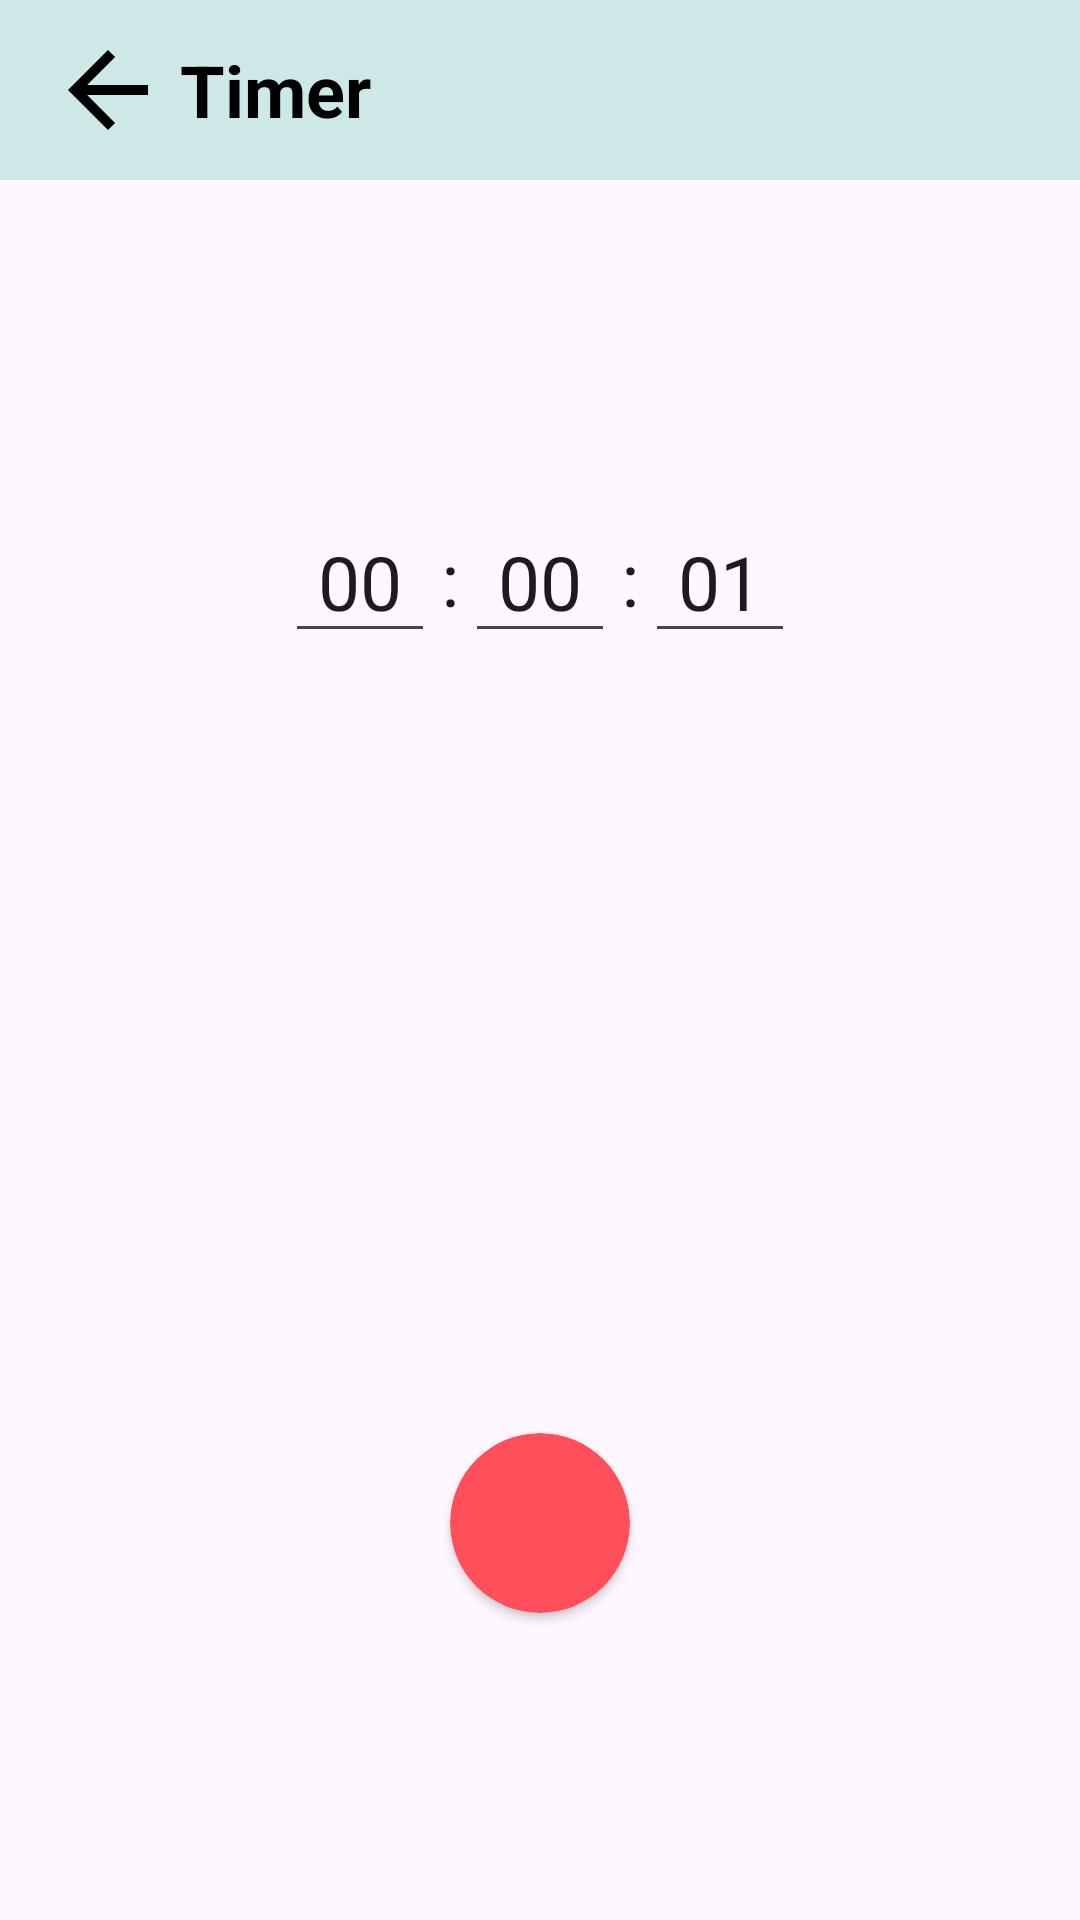

Icon bounding boxes for this 1080×1920 phone screenshot, format {"x1": x1, "y1": y1, "x2": x2, "y2": y2}:
arrow back: {"x1": 68, "y1": 50, "x2": 148, "y2": 130}
